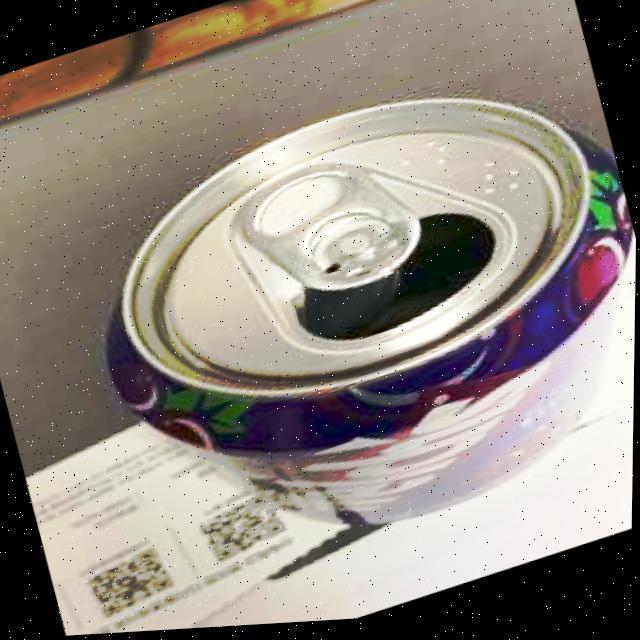Lata: (110, 99, 630, 461)
